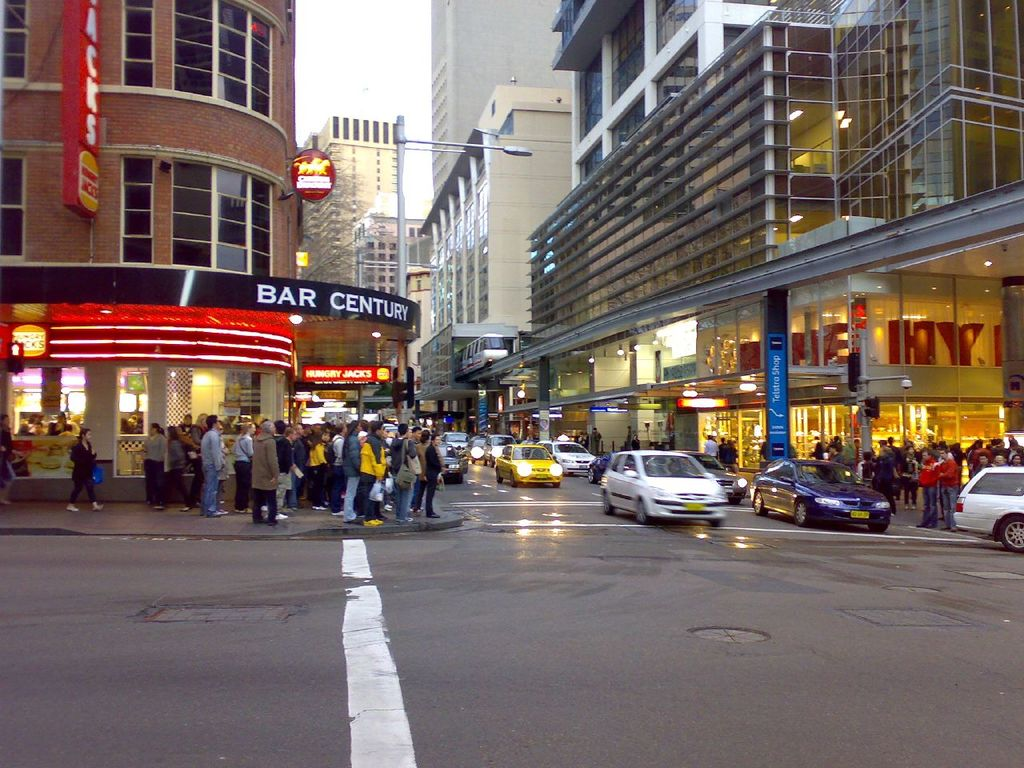mobil: (753, 448, 900, 535), (591, 440, 728, 524), (494, 439, 566, 487)
